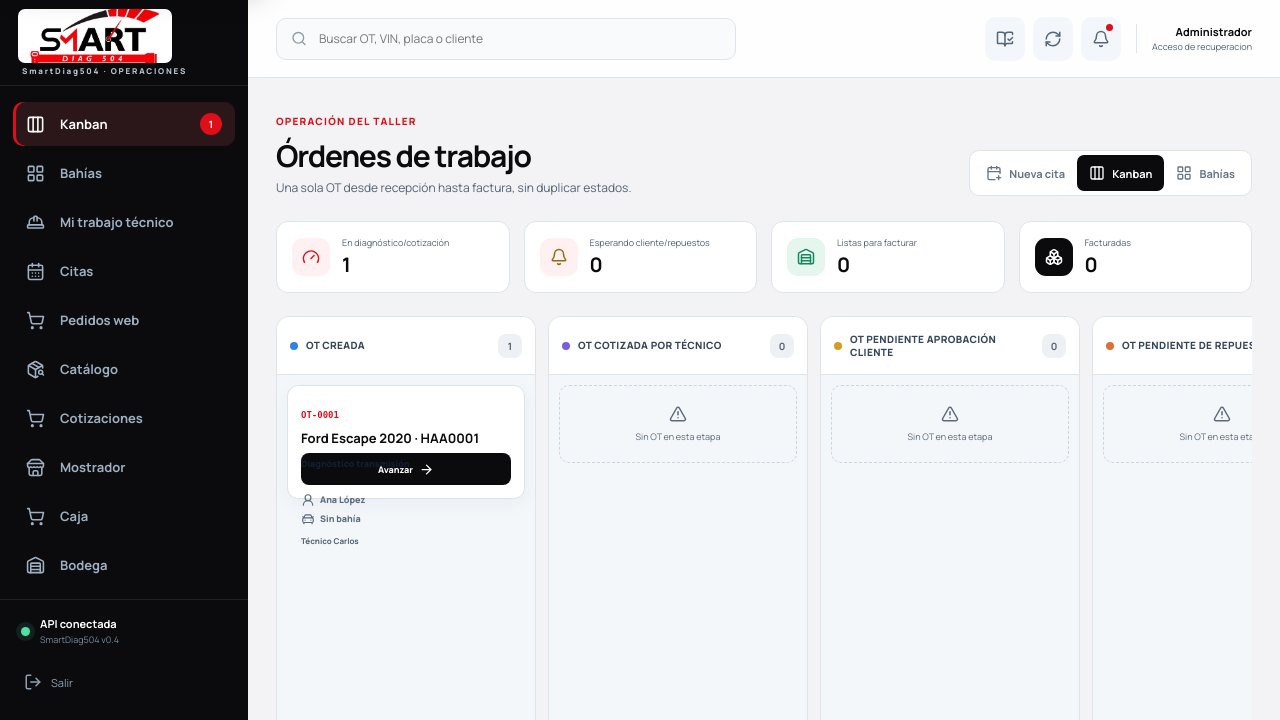
SmartDiag504 operations › offers product and image administration
Click the button "Catálogo". click: click(124, 369)
box: [13, 347, 235, 391]
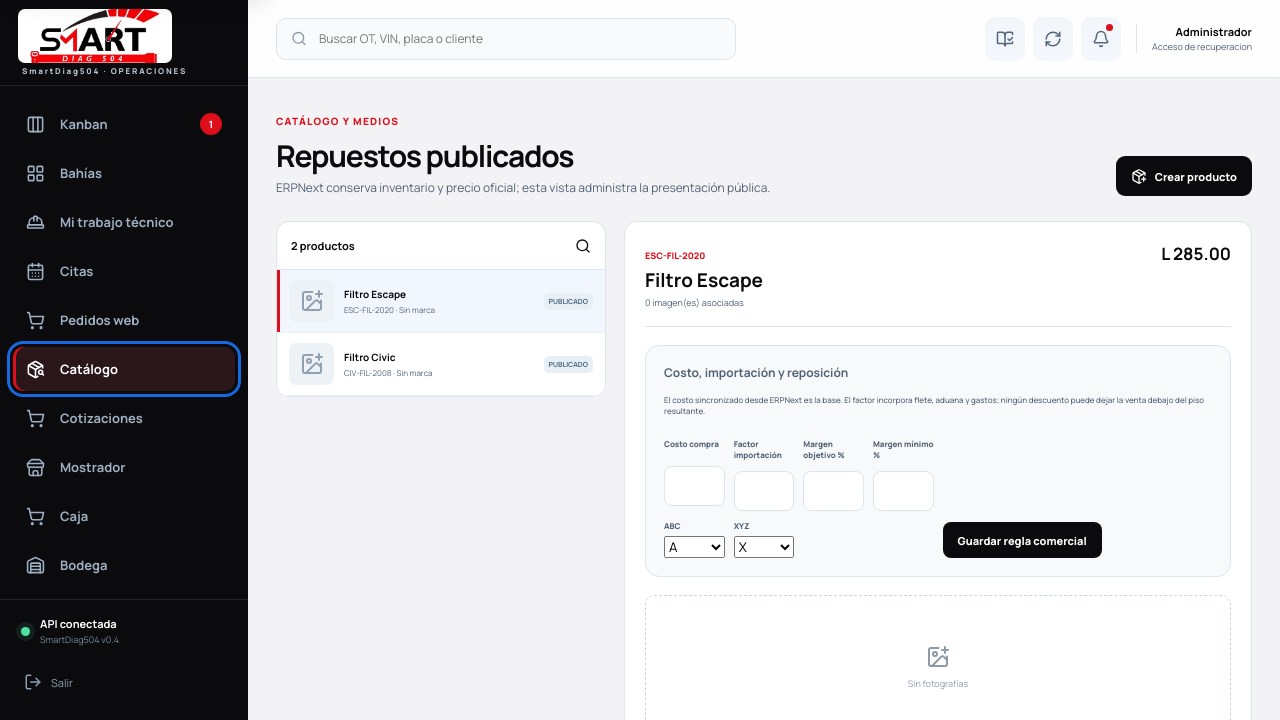
Now the button "Crear producto" is shown, box [1116, 156, 1252, 196]
Now the text "Filtro Escape" is shown, box [344, 287, 406, 301]
